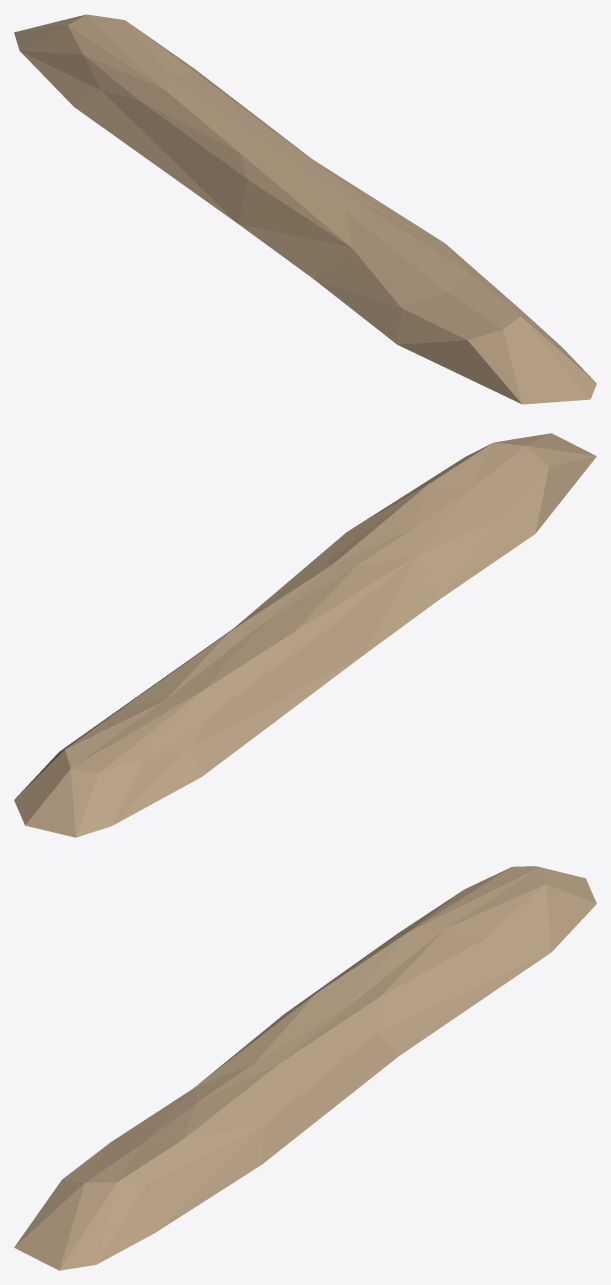
The model's file is env_farm_row.gltf.
3 views of the same model, one above another, from view 1: azimuth 30°, elevation 25°; view 2: azimuth 150°, elevation 25°; view 3: azimuth 330°, elevation 25° (orthographic). The views are drawn at different scales.
Visible parts, largest first — view 1: env_farm_row; view 2: env_farm_row; view 3: env_farm_row.
Part boxes in pixels (x1,y1,x2,y2): env_farm_row: (14,14,596,404); env_farm_row: (14,433,596,837); env_farm_row: (14,866,596,1270).
Size of the model in its own units: 1.24 by 0.3587 by 8.56.
1 material, 1 textured.
